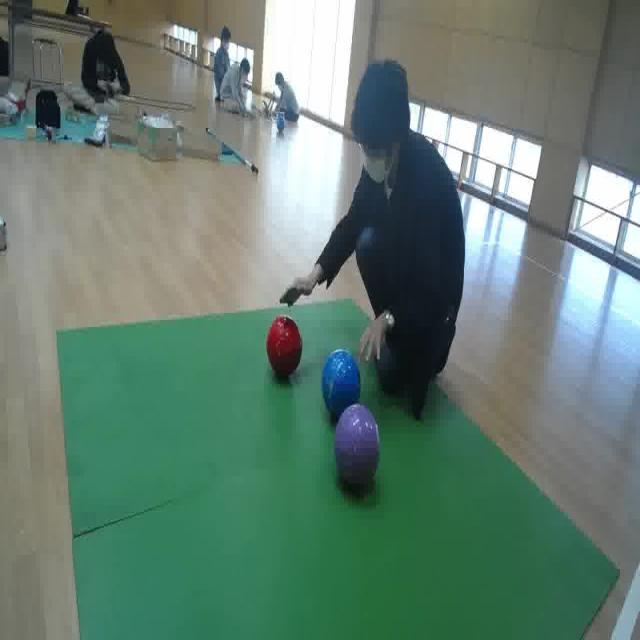blue_ball: (322, 348, 360, 417)
purple_ball: (336, 404, 380, 484)
red_ball: (267, 314, 303, 376)
